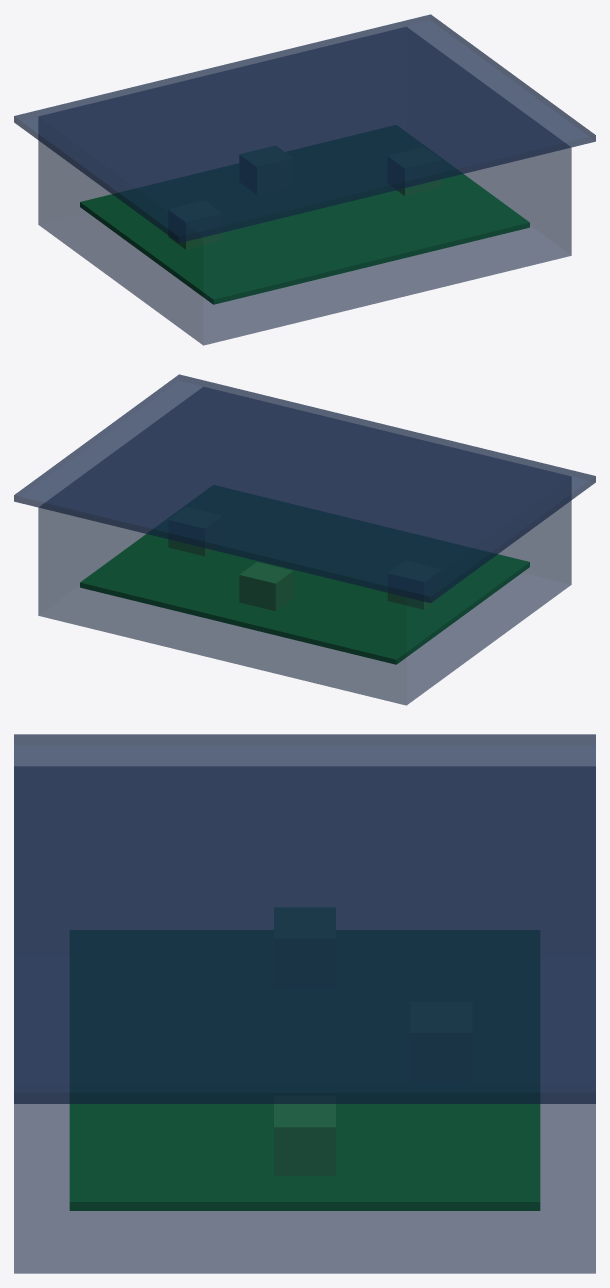
File: HR30_measurement_chain_calibration_fixture_candidate.glb
3 renders of one model, top to bottom at view 1: azimuth 30°, elevation 25°; view 2: azimuth 150°, elevation 25°; view 3: azimuth 270°, elevation 25°, orthographic. The views are drawn at different scales.
Parts seen in each view (by area): view 1: HAMMOND_1591GFLBK_ENVELOPE, FLANGED_LID, PASSIVE_BREAKOUT_PCB, JPS, JDUT, JDMM; view 2: HAMMOND_1591GFLBK_ENVELOPE, FLANGED_LID, PASSIVE_BREAKOUT_PCB, JDMM, JPS, JDUT; view 3: HAMMOND_1591GFLBK_ENVELOPE, FLANGED_LID, PASSIVE_BREAKOUT_PCB, JDUT, JPS, JDMM.
Part boxes in pixels (x1,y1,x2,y2): HAMMOND_1591GFLBK_ENVELOPE: [38, 27, 571, 345]; FLANGED_LID: [14, 14, 595, 243]; PASSIVE_BREAKOUT_PCB: [80, 125, 529, 304]; JPS: [168, 201, 222, 249]; JDUT: [388, 147, 441, 196]; JDMM: [240, 146, 292, 193]; HAMMOND_1591GFLBK_ENVELOPE: [38, 387, 571, 705]; FLANGED_LID: [14, 374, 595, 603]; PASSIVE_BREAKOUT_PCB: [80, 485, 529, 664]; JDMM: [239, 562, 293, 611]; JPS: [387, 561, 441, 609]; JDUT: [168, 507, 221, 556]; HAMMOND_1591GFLBK_ENVELOPE: [14, 766, 595, 1273]; FLANGED_LID: [14, 734, 595, 1103]; PASSIVE_BREAKOUT_PCB: [69, 930, 540, 1210]; JDUT: [274, 1096, 335, 1175]; JPS: [274, 908, 335, 986]; JDMM: [411, 1002, 471, 1080].
Size of the model in its own units: 137 by 36 by 94.
